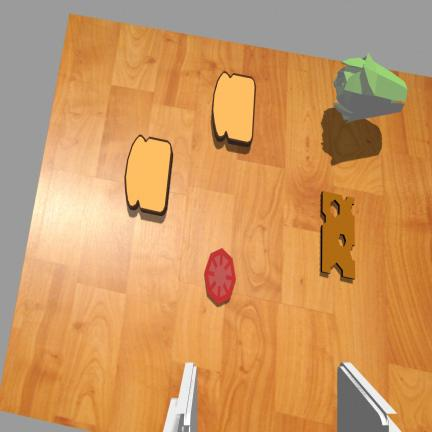cheese: (321, 191, 354, 278)
lettuce: (333, 53, 407, 122)
sliced_bread: (125, 136, 172, 214), (212, 72, 255, 146)
sliced_tomato: (205, 248, 235, 304)
